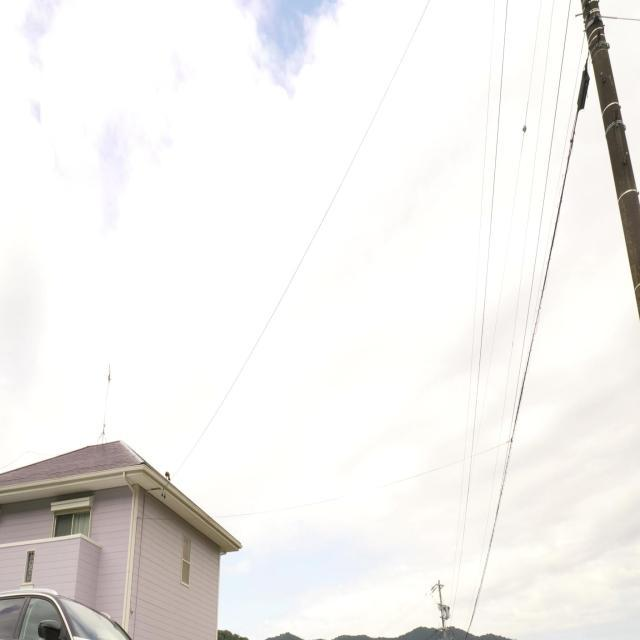Birds: (162, 464, 176, 485)
